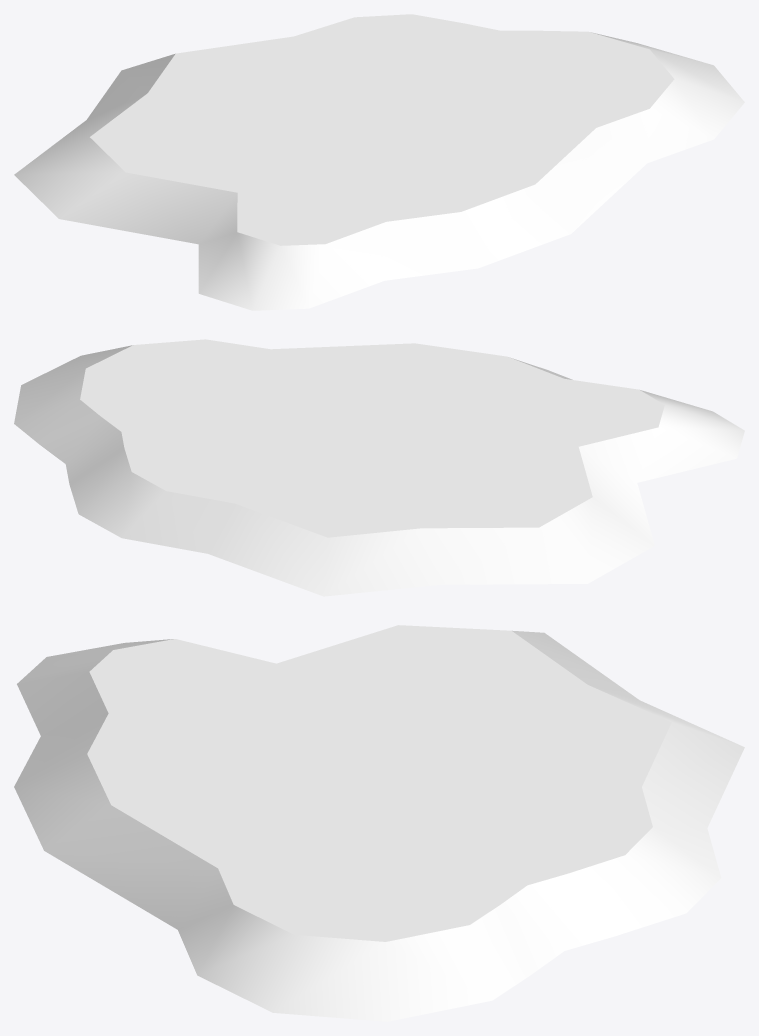
File: patch-grass.glb
3 views of the same model, one above another, from view 1: azimuth 30°, elevation 25°; view 2: azimuth 150°, elevation 25°; view 3: azimuth 270°, elevation 25° (orthographic). The views are drawn at different scales.
Visible parts, largest first — view 1: patch-grass; view 2: patch-grass; view 3: patch-grass.
Boxes of the visible parts, left/top/right/bottom form: patch-grass: left=14, top=14, right=744, bottom=310; patch-grass: left=14, top=339, right=744, bottom=596; patch-grass: left=14, top=625, right=744, bottom=1021.
Bounding box in the file's own units: 5.27 × 0.2498 × 4.11.
1 material, 1 textured.
